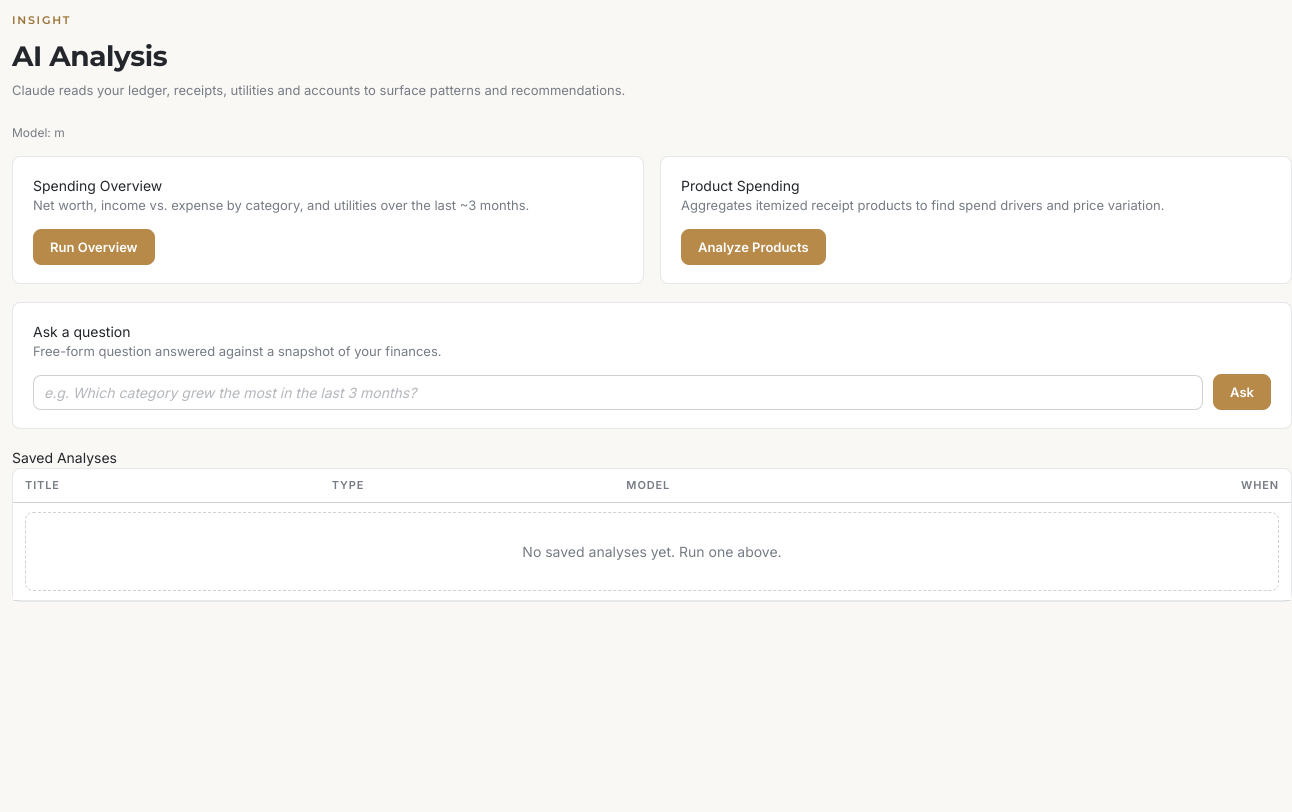
Test: Analysis page › validates an empty custom question
The width and height of the screenshot is (1292, 812).
Click the button "Ask".
click(1242, 392)  # box [1213,374,1271,410]
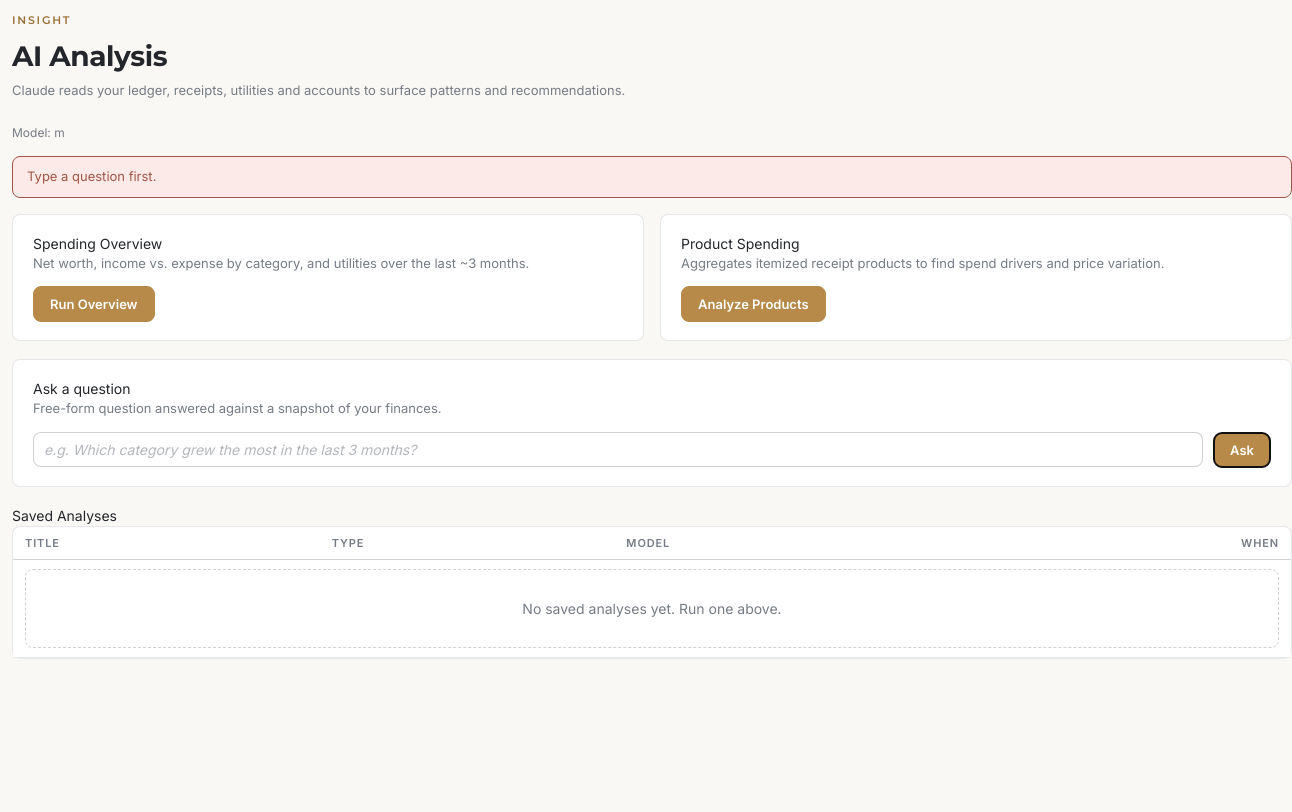
Expected: the text "Type a question first." is shown, [12,156,1291,198]
